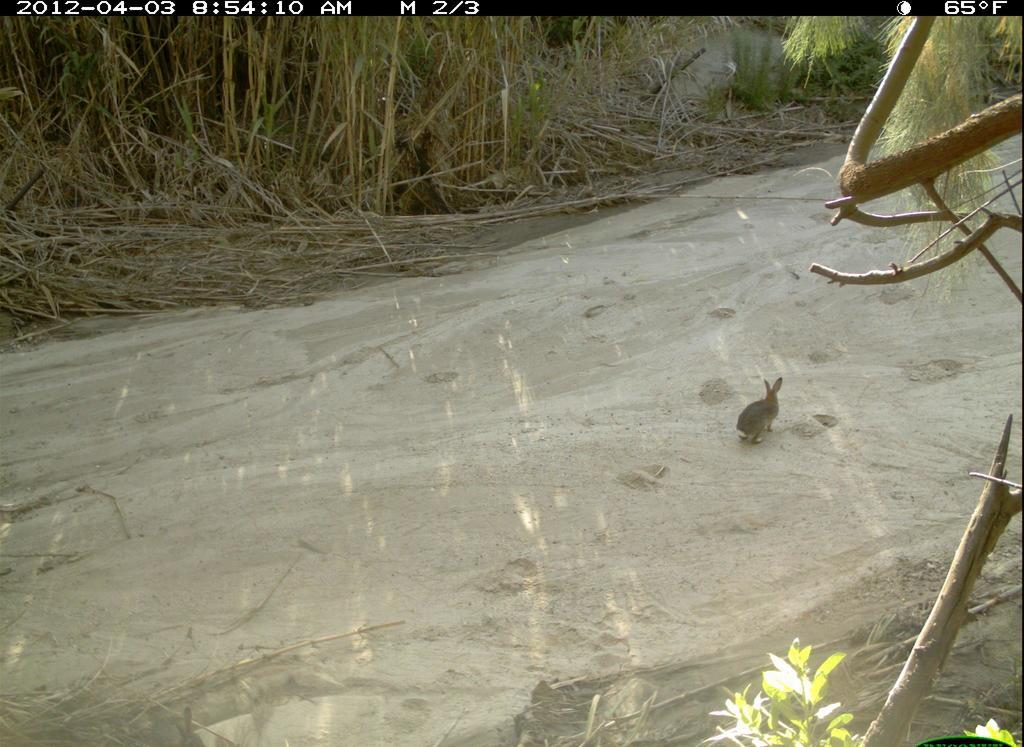rabbit: (731, 370, 792, 447)
